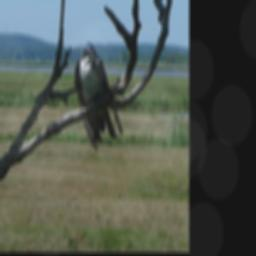Swallow: (72, 39, 124, 153)
